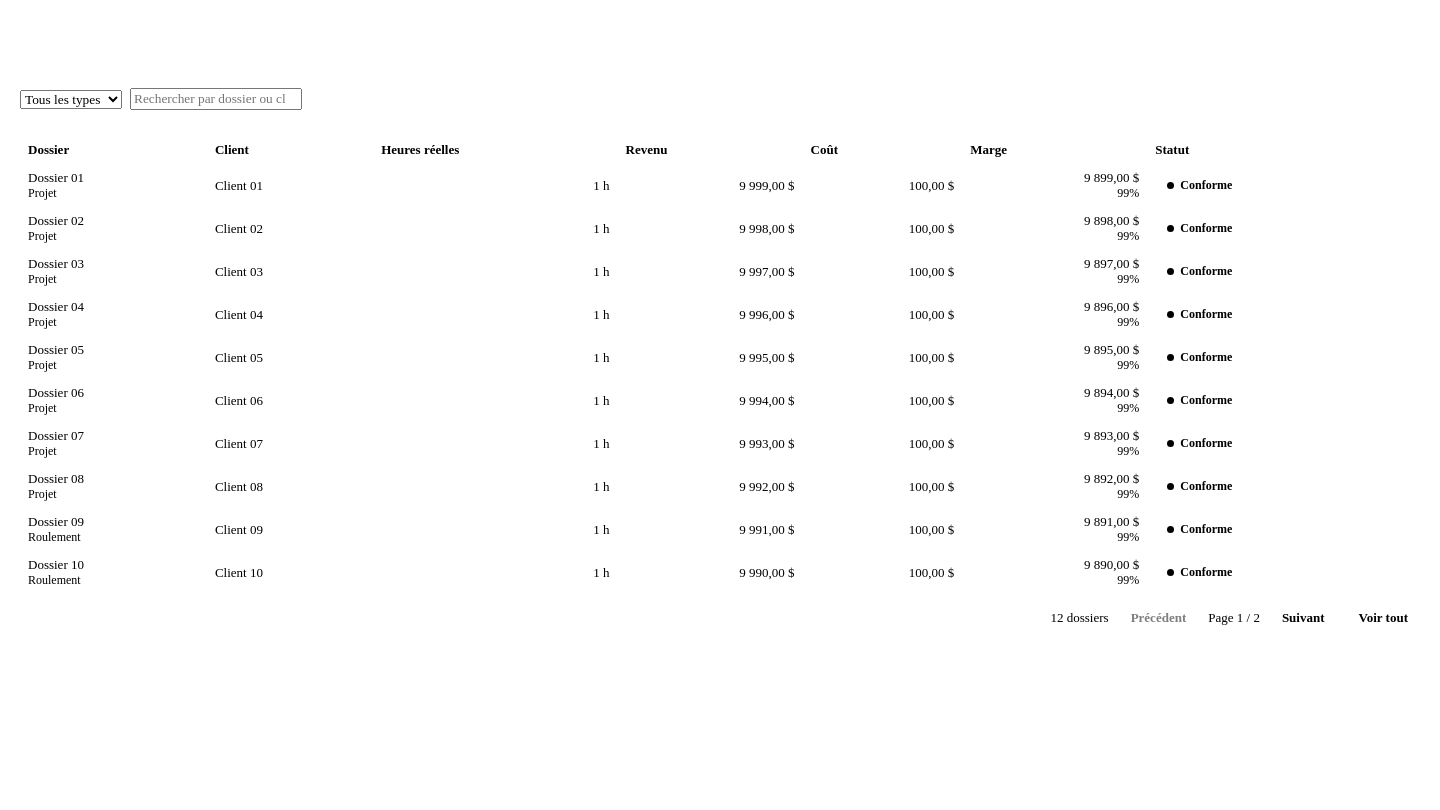
Test: ReportsPage — pagination, filtre par type, recherche du comparatif › la recherche filtre par nom de client
Expected: the text "Client 01" is shown, [207,164,373,207]
Type "Client 05" into the search field with placeholder "Rechercher par dossier ou client…" at (216, 99), box [130,88,302,110]
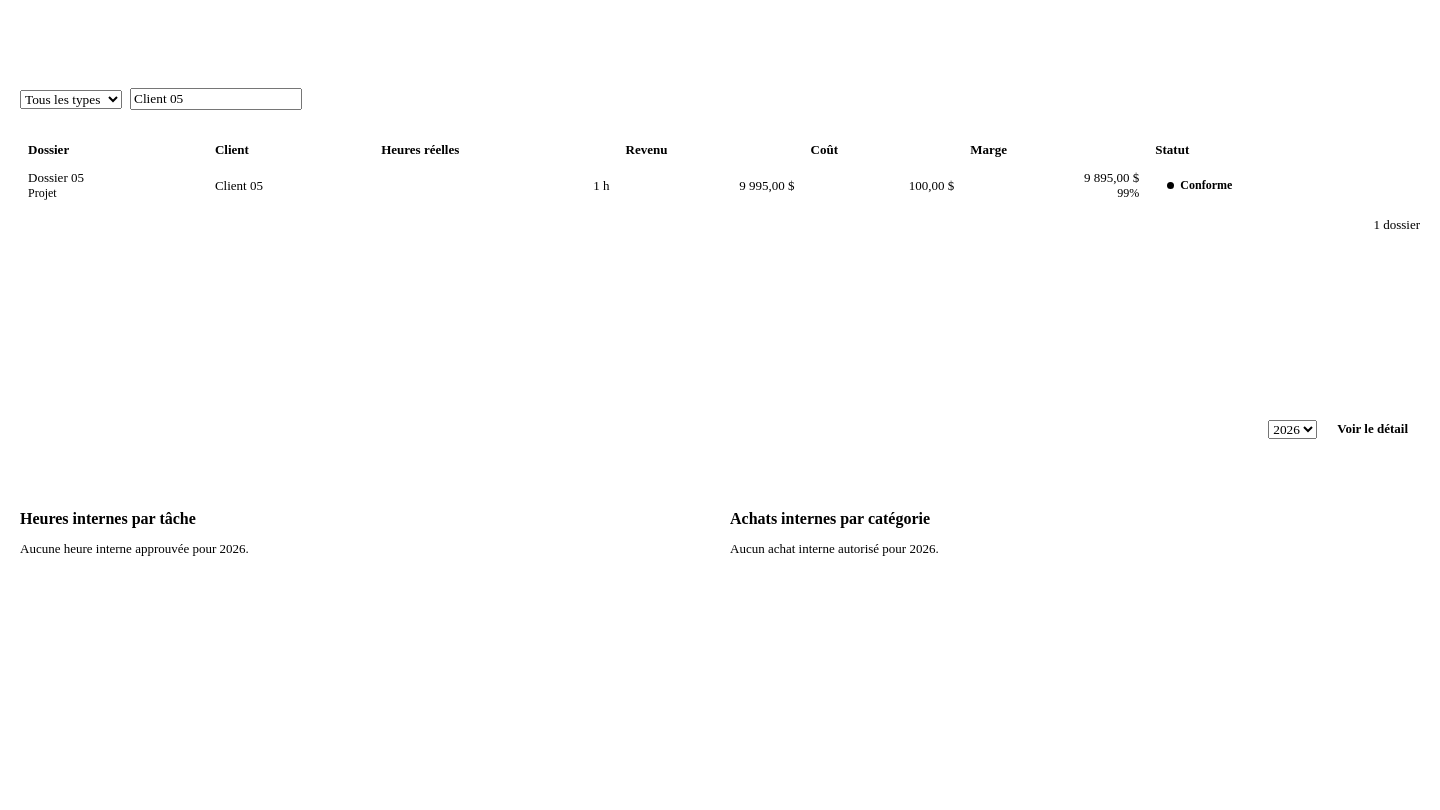
Expected: the text "Client 05" is shown, [207,164,373,207]
Expected: the text "Client 01" is gone
Expected: the text "1 dossier" is shown, [1373,217,1420,233]
